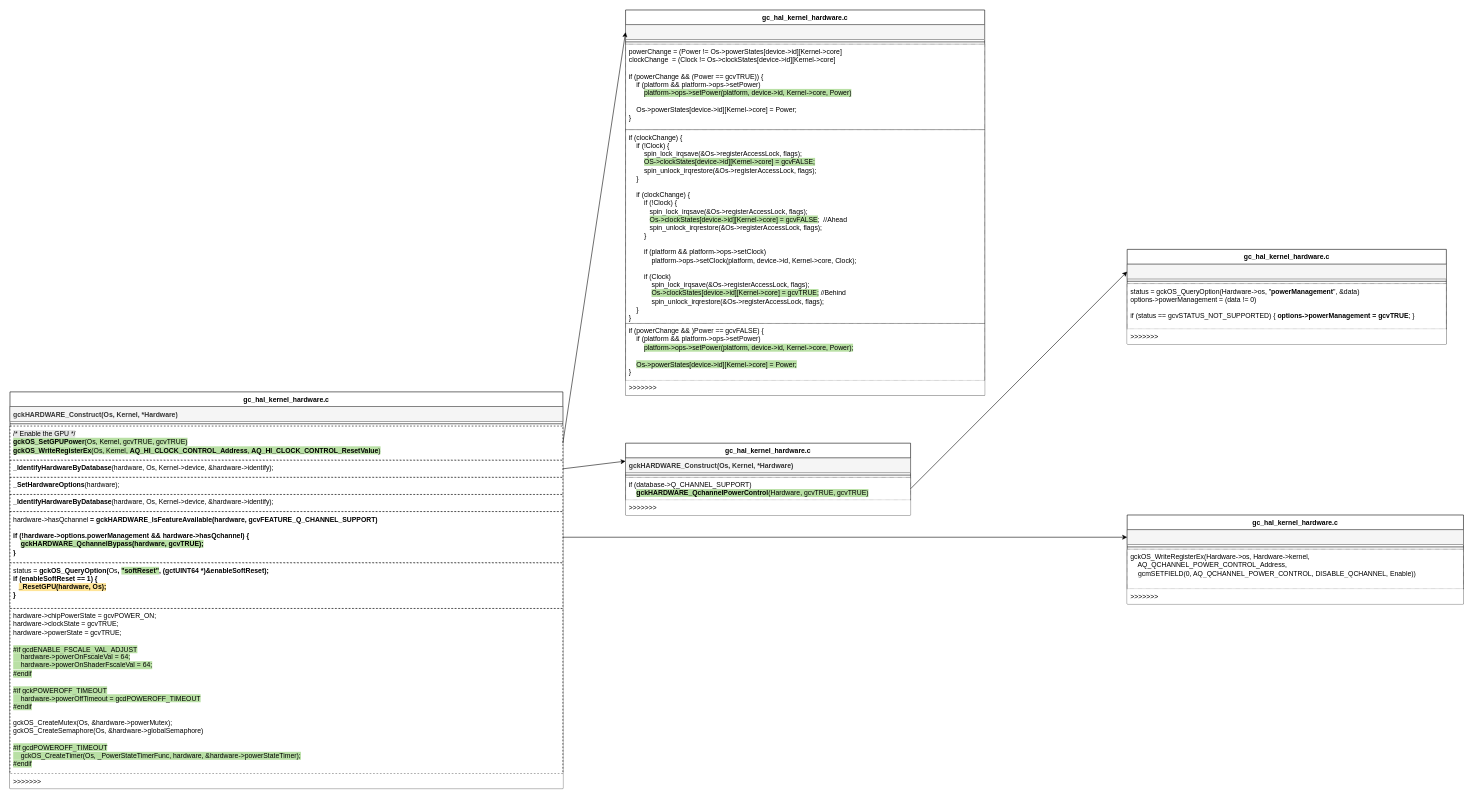
Image size: 1473x800. Some labels were removed from this diagram. Here are the shapes that lost their labels. From the top down, the box of each, then its label:
(625, 24, 985, 40): gckOS_SetGPUPower(Os, Kernel, gctBOOL Clock, gctBOOL Power)
(1127, 264, 1446, 279): _SetHardwareOptions(Hardware)
(1127, 529, 1463, 545): gckHARDWARE_QchannelBypass (Hardware)
